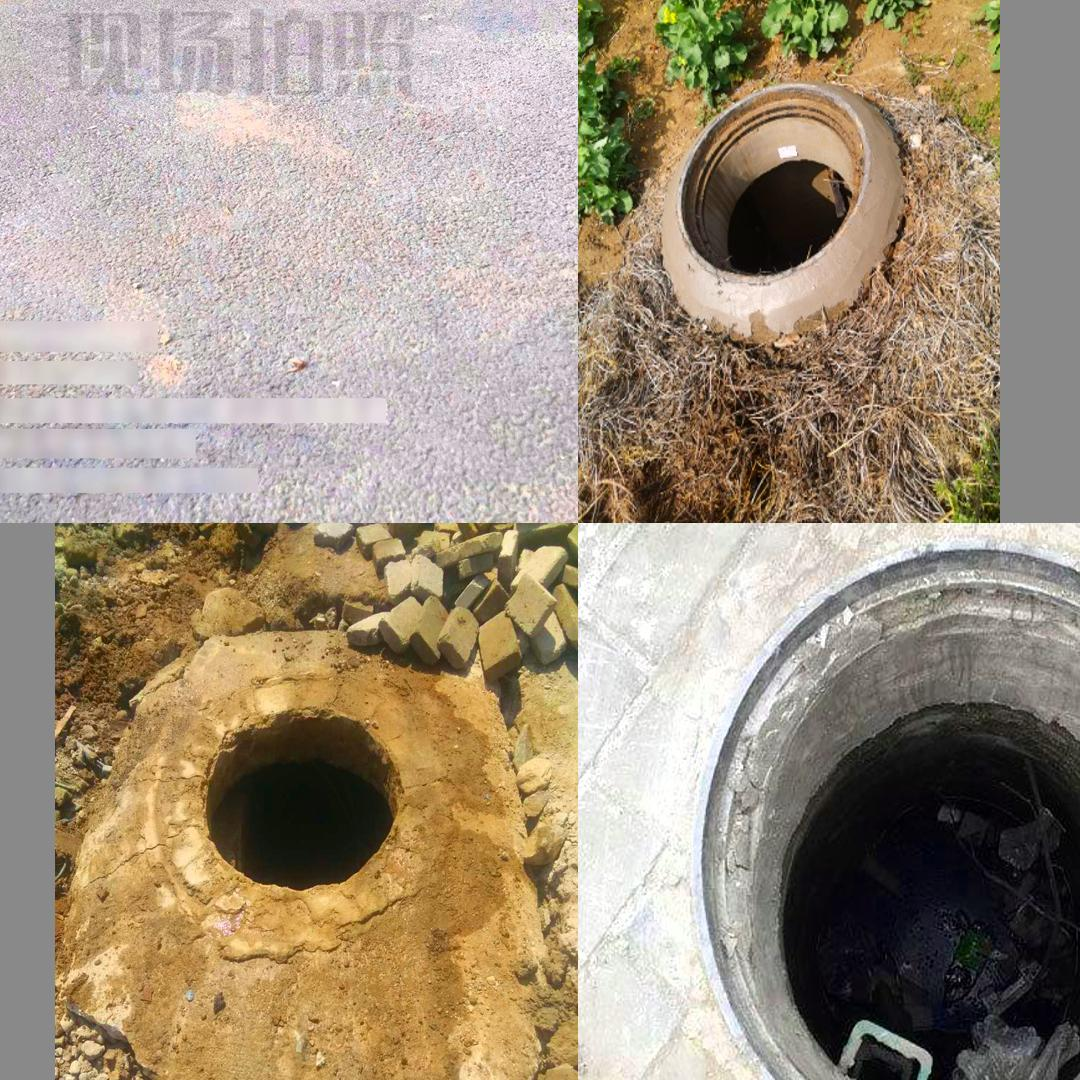lose: (691, 534, 1080, 1080), (662, 86, 917, 347), (198, 707, 402, 893)
